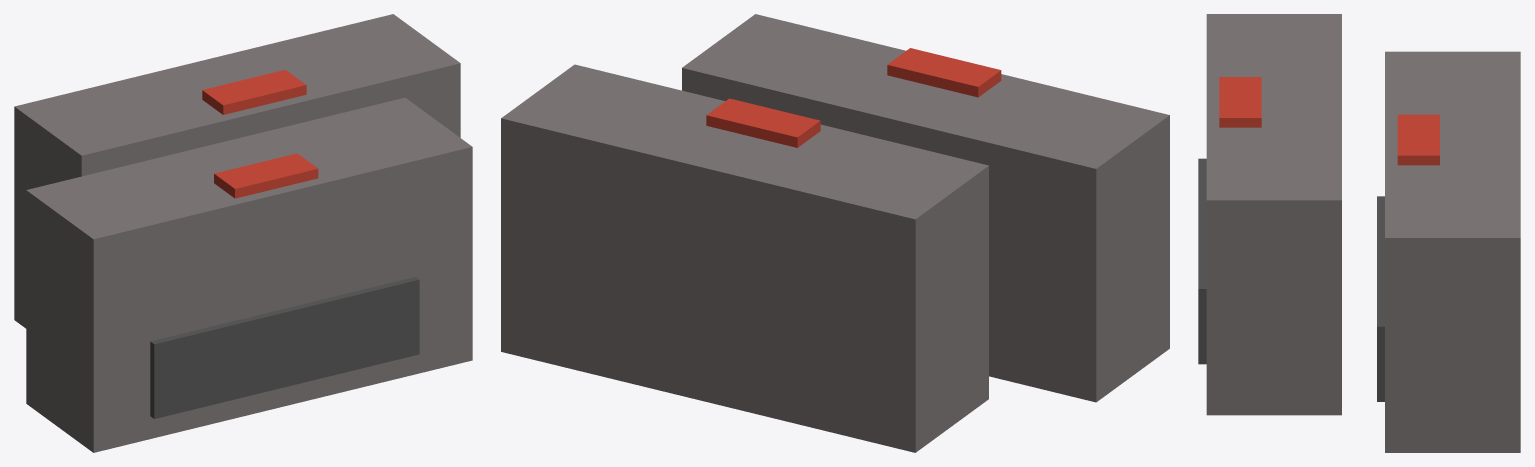
File: ce_ammo2_railr_sabot_b.obj
3 views of the same model, side by side, from view 1: azimuth 30°, elevation 25°; view 2: azimuth 150°, elevation 25°; view 3: azimuth 270°, elevation 25° (orthographic). The views are drawn at different scales.
Visible parts, largest first — view 1: ce_ammo2_railr_sabot_b_3, ce_ammo2_railr_sabot_b_0, ce_ammo2_railr_sabot_b_5, ce_ammo2_railr_sabot_b_4, ce_ammo2_railr_sabot_b_1; view 2: ce_ammo2_railr_sabot_b_0, ce_ammo2_railr_sabot_b_3, ce_ammo2_railr_sabot_b_1, ce_ammo2_railr_sabot_b_4; view 3: ce_ammo2_railr_sabot_b_3, ce_ammo2_railr_sabot_b_0, ce_ammo2_railr_sabot_b_1, ce_ammo2_railr_sabot_b_4, ce_ammo2_railr_sabot_b_5, ce_ammo2_railr_sabot_b_2.
Part boxes in pixels (x1,y1,x2,y2): ce_ammo2_railr_sabot_b_3: [26, 97, 472, 452]; ce_ammo2_railr_sabot_b_0: [14, 14, 460, 328]; ce_ammo2_railr_sabot_b_5: [150, 276, 419, 418]; ce_ammo2_railr_sabot_b_4: [214, 153, 318, 198]; ce_ammo2_railr_sabot_b_1: [202, 69, 306, 114]; ce_ammo2_railr_sabot_b_0: [501, 64, 988, 452]; ce_ammo2_railr_sabot_b_3: [682, 14, 1169, 402]; ce_ammo2_railr_sabot_b_1: [706, 98, 820, 147]; ce_ammo2_railr_sabot_b_4: [887, 48, 1001, 97]; ce_ammo2_railr_sabot_b_3: [1206, 14, 1341, 415]; ce_ammo2_railr_sabot_b_0: [1385, 51, 1520, 452]; ce_ammo2_railr_sabot_b_1: [1397, 114, 1439, 165]; ce_ammo2_railr_sabot_b_4: [1219, 77, 1261, 127]; ce_ammo2_railr_sabot_b_5: [1198, 158, 1206, 364]; ce_ammo2_railr_sabot_b_2: [1377, 196, 1384, 401].
Size of the model in its own units: 0.594 by 0.278 by 0.361.
